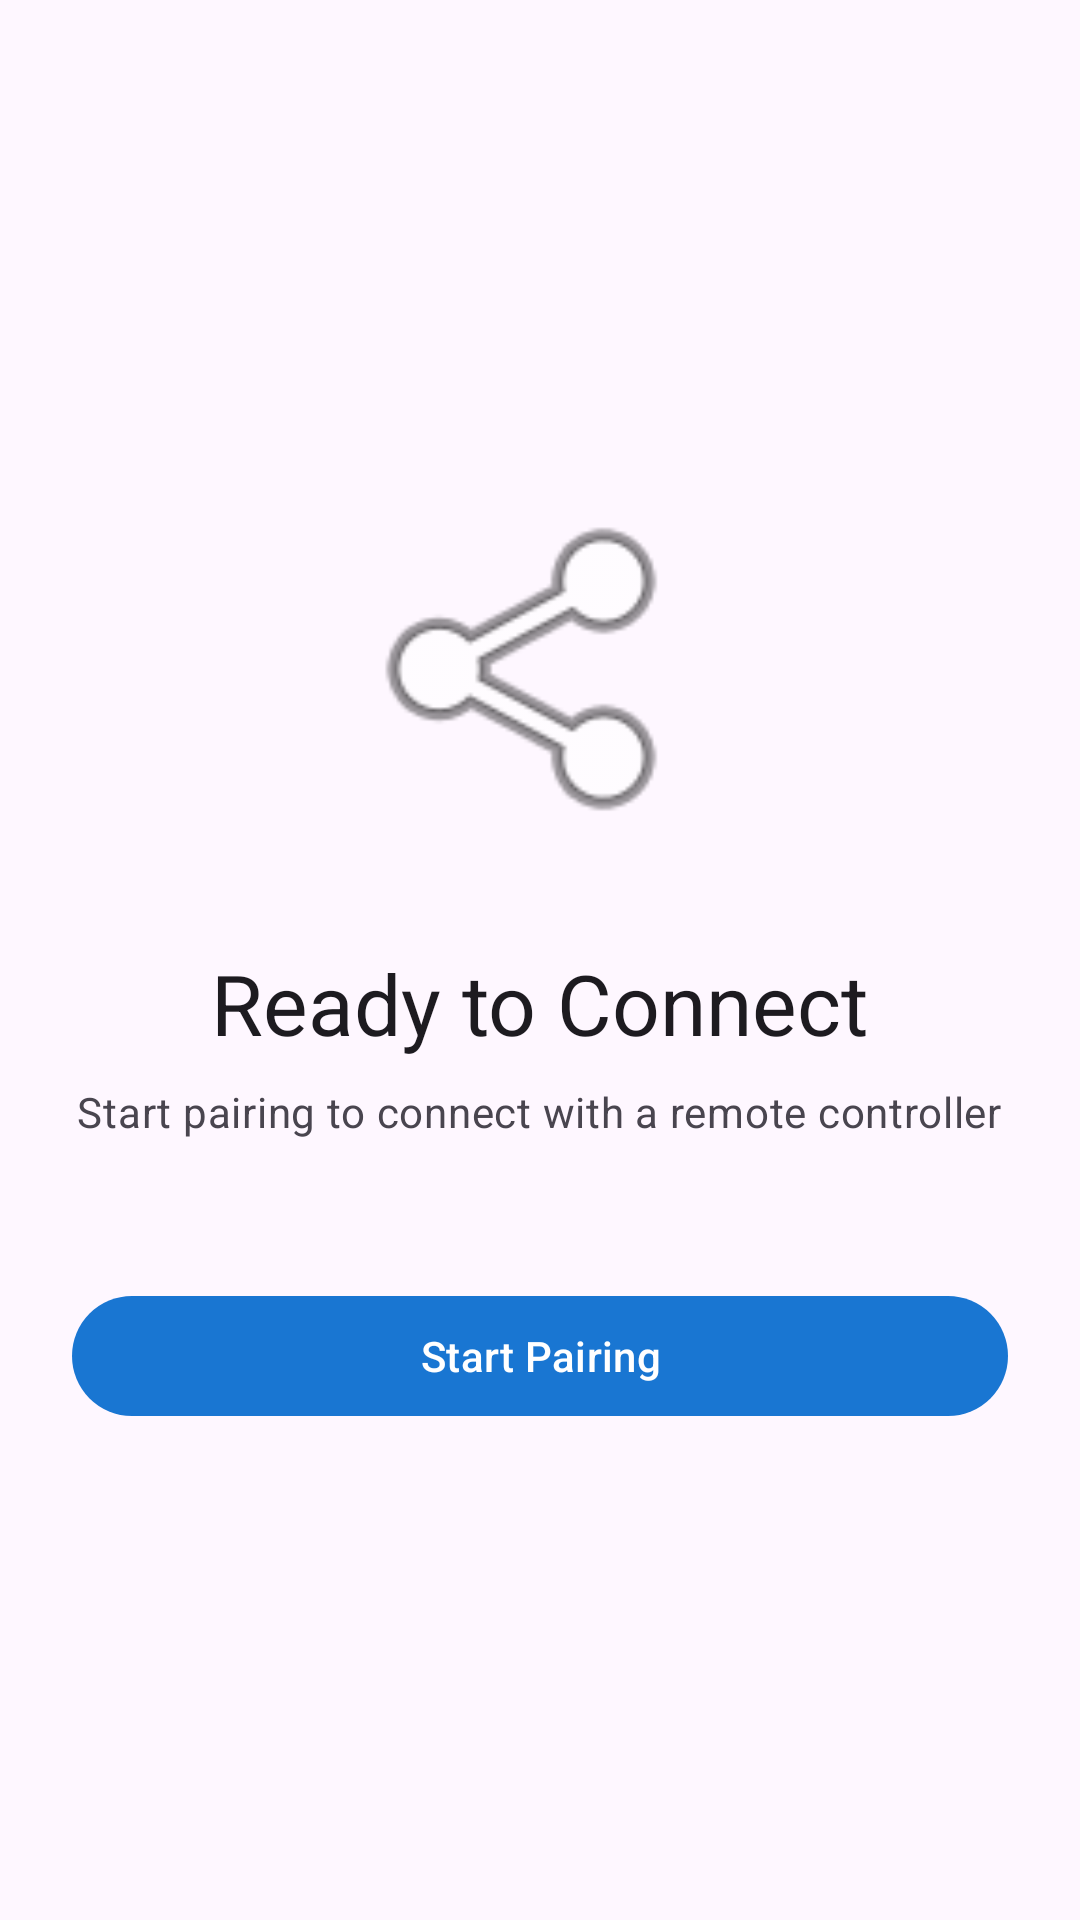

Screen size 1080 × 1920. Icon name, then its center in pixels as [x,y]:
share: [521,669]
